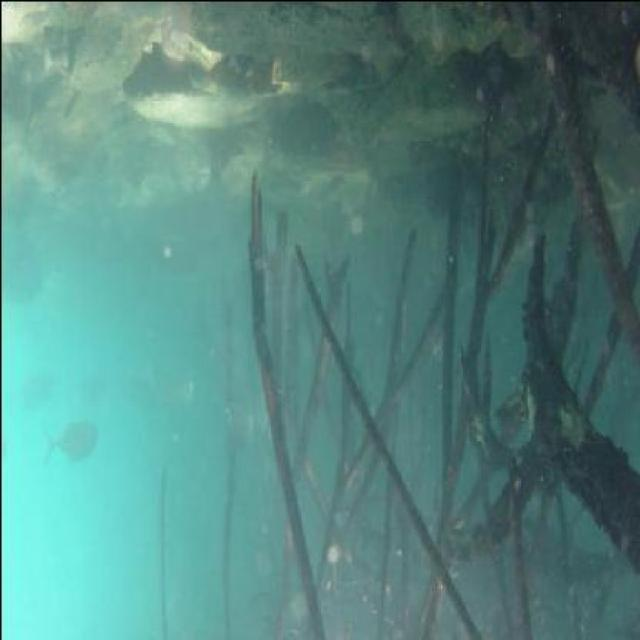Caranx_sexfasciatus_juvenile: (39, 410, 98, 468), (211, 397, 247, 466), (13, 362, 53, 413)
